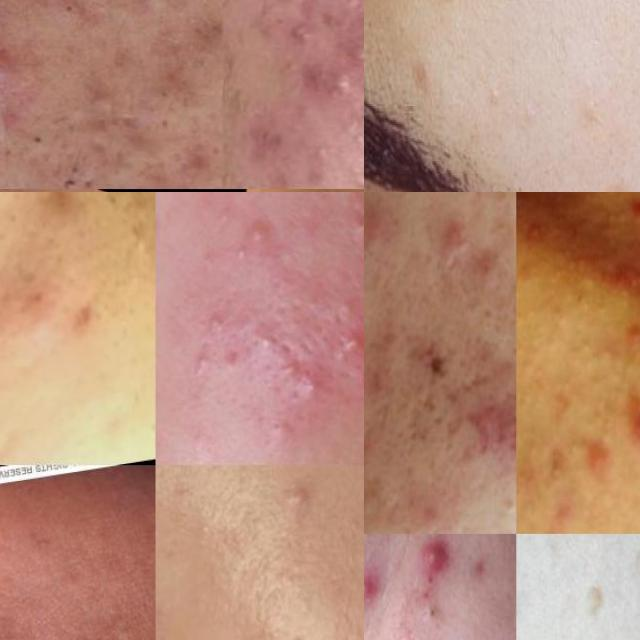acne_scars: (399, 335, 459, 385), (452, 361, 505, 409)
comedone: (134, 63, 177, 119), (16, 108, 58, 164), (49, 141, 96, 189), (126, 0, 187, 29), (275, 13, 316, 53), (476, 79, 507, 131), (292, 128, 334, 164), (209, 195, 242, 238), (572, 322, 606, 362), (250, 321, 281, 364), (222, 236, 258, 272), (329, 154, 364, 189), (41, 0, 84, 25), (412, 594, 447, 623), (0, 91, 13, 168), (201, 302, 230, 334), (131, 228, 156, 264), (184, 345, 209, 377)
flat_wart: (433, 0, 495, 44), (578, 564, 614, 636), (631, 548, 640, 591)
papule: (431, 201, 476, 269), (364, 192, 407, 257), (267, 343, 311, 390), (259, 409, 298, 457), (326, 283, 364, 328), (241, 210, 272, 253), (619, 388, 640, 451), (589, 436, 616, 482), (500, 408, 516, 461), (470, 552, 494, 585), (626, 192, 640, 232)
pustule: (410, 534, 455, 589), (273, 465, 316, 513), (333, 324, 364, 366), (295, 368, 328, 404), (364, 563, 385, 609), (347, 195, 364, 246)
